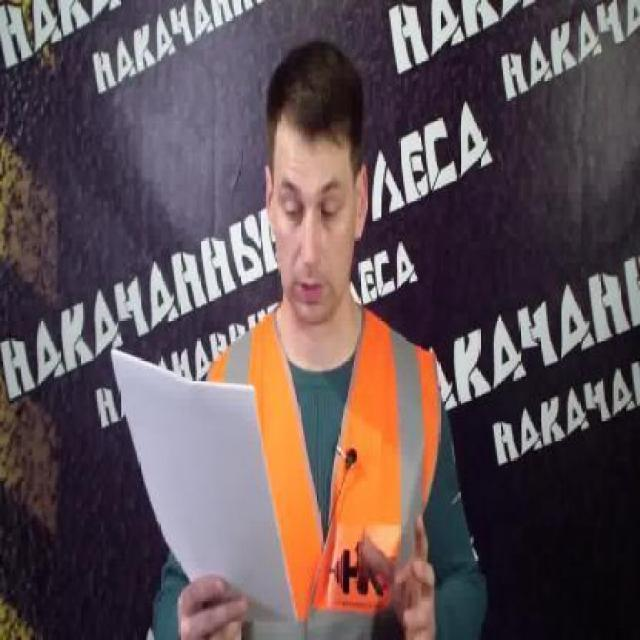Mask: (207, 300, 441, 640)
